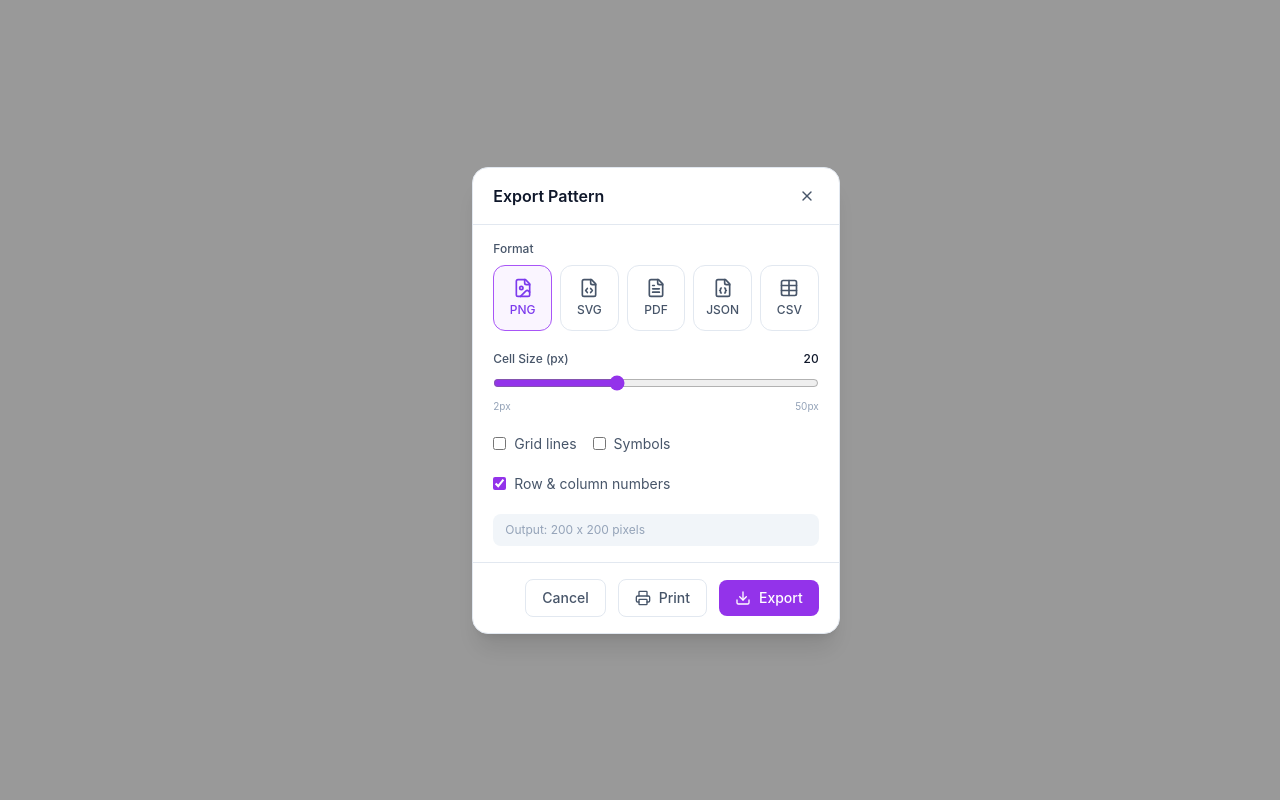
ExportDialog › hides cell size slider for JSON and CSV
Step 1. Click the button "JSON" → (723,298), box x1=693 y1=264 x2=752 y2=330
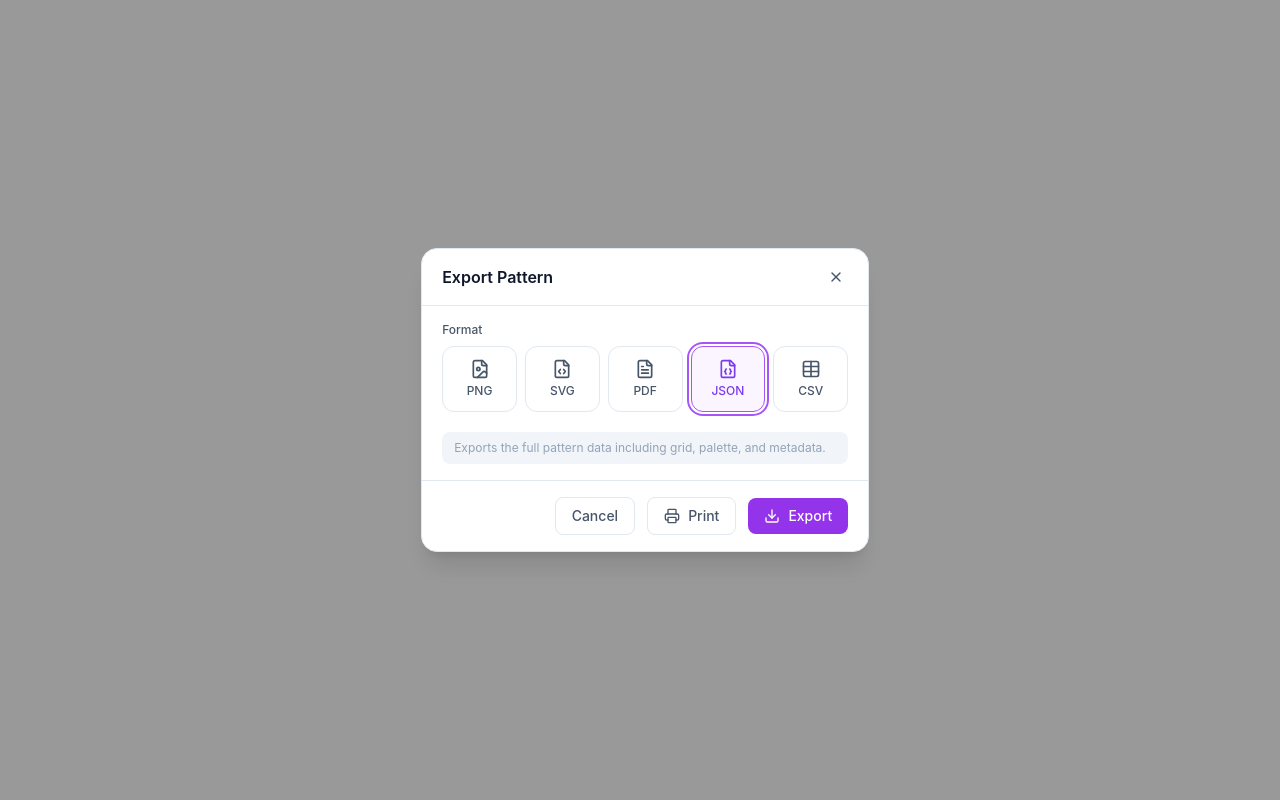
Expected: the text "Cell Size (px)" is gone
